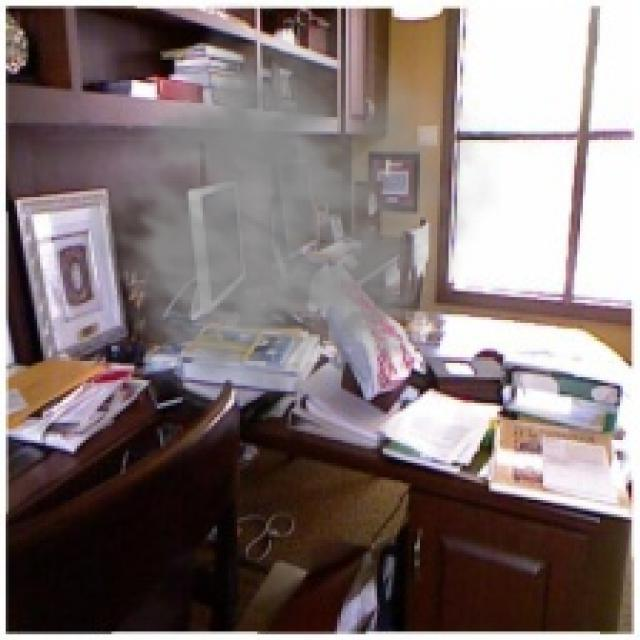Smoke: (83, 2, 500, 414)
